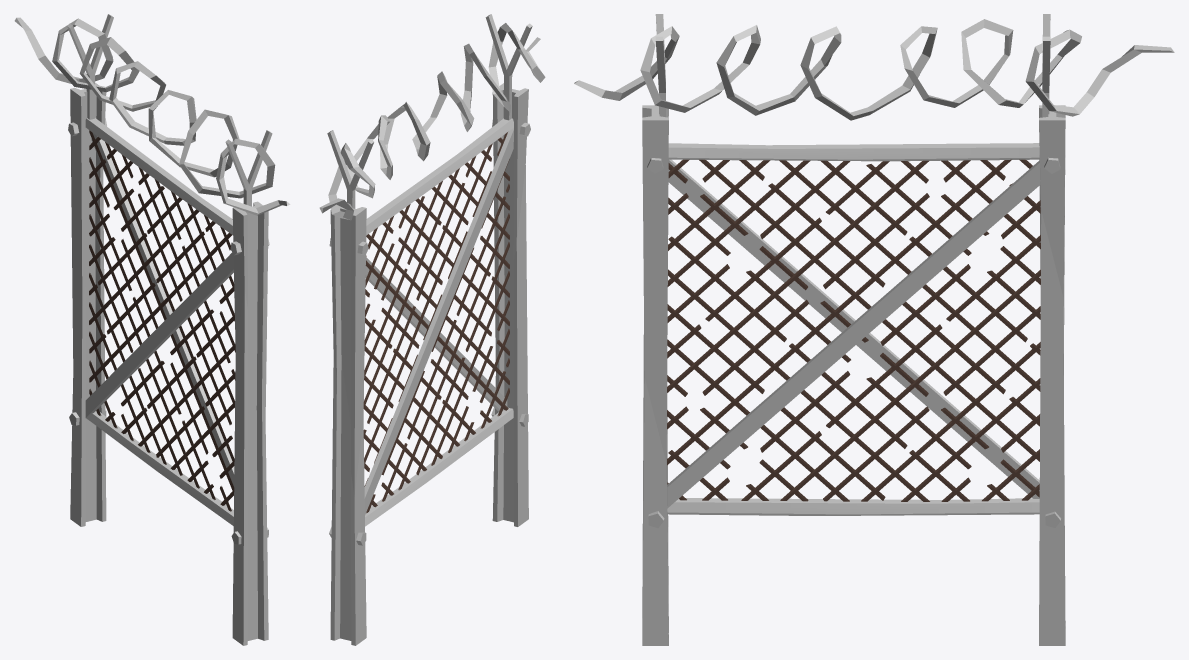
Rendered from SM_Prop_Wall_Wire_Preset_01.fbx.
The picture shows the model from 3 angles, left to right: view 1: azimuth 30°, elevation 25°; view 2: azimuth 150°, elevation 25°; view 3: azimuth 270°, elevation 25°; orthographic projection. The views are drawn at different scales.
Parts seen in each view (by area): view 1: SM_Prop_Wall_Wire_Preset_01; view 2: SM_Prop_Wall_Wire_Preset_01; view 3: SM_Prop_Wall_Wire_Preset_01.
Boxes of the visible parts, left/top/right/bottom form: SM_Prop_Wall_Wire_Preset_01: left=14, top=14, right=290, bottom=645; SM_Prop_Wall_Wire_Preset_01: left=319, top=14, right=545, bottom=645; SM_Prop_Wall_Wire_Preset_01: left=574, top=14, right=1174, bottom=645.
Size of the model in its own units: 39.15 by 334 by 295.
